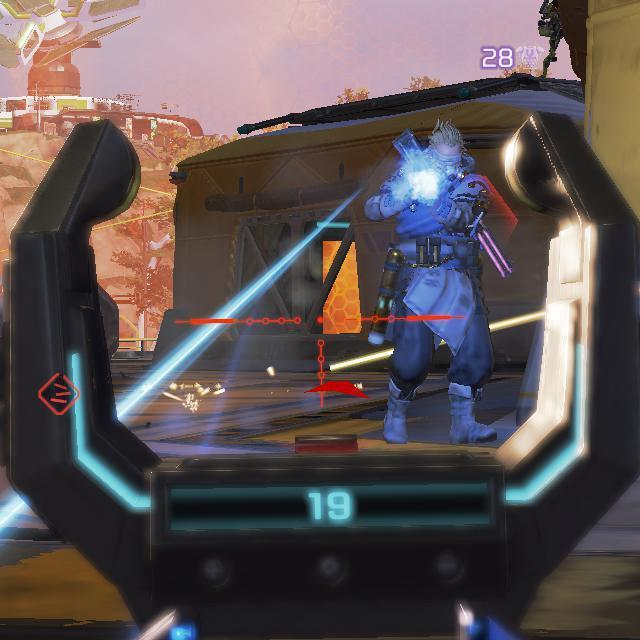avatar: (366, 119, 502, 445)
object: (403, 162, 446, 207)
